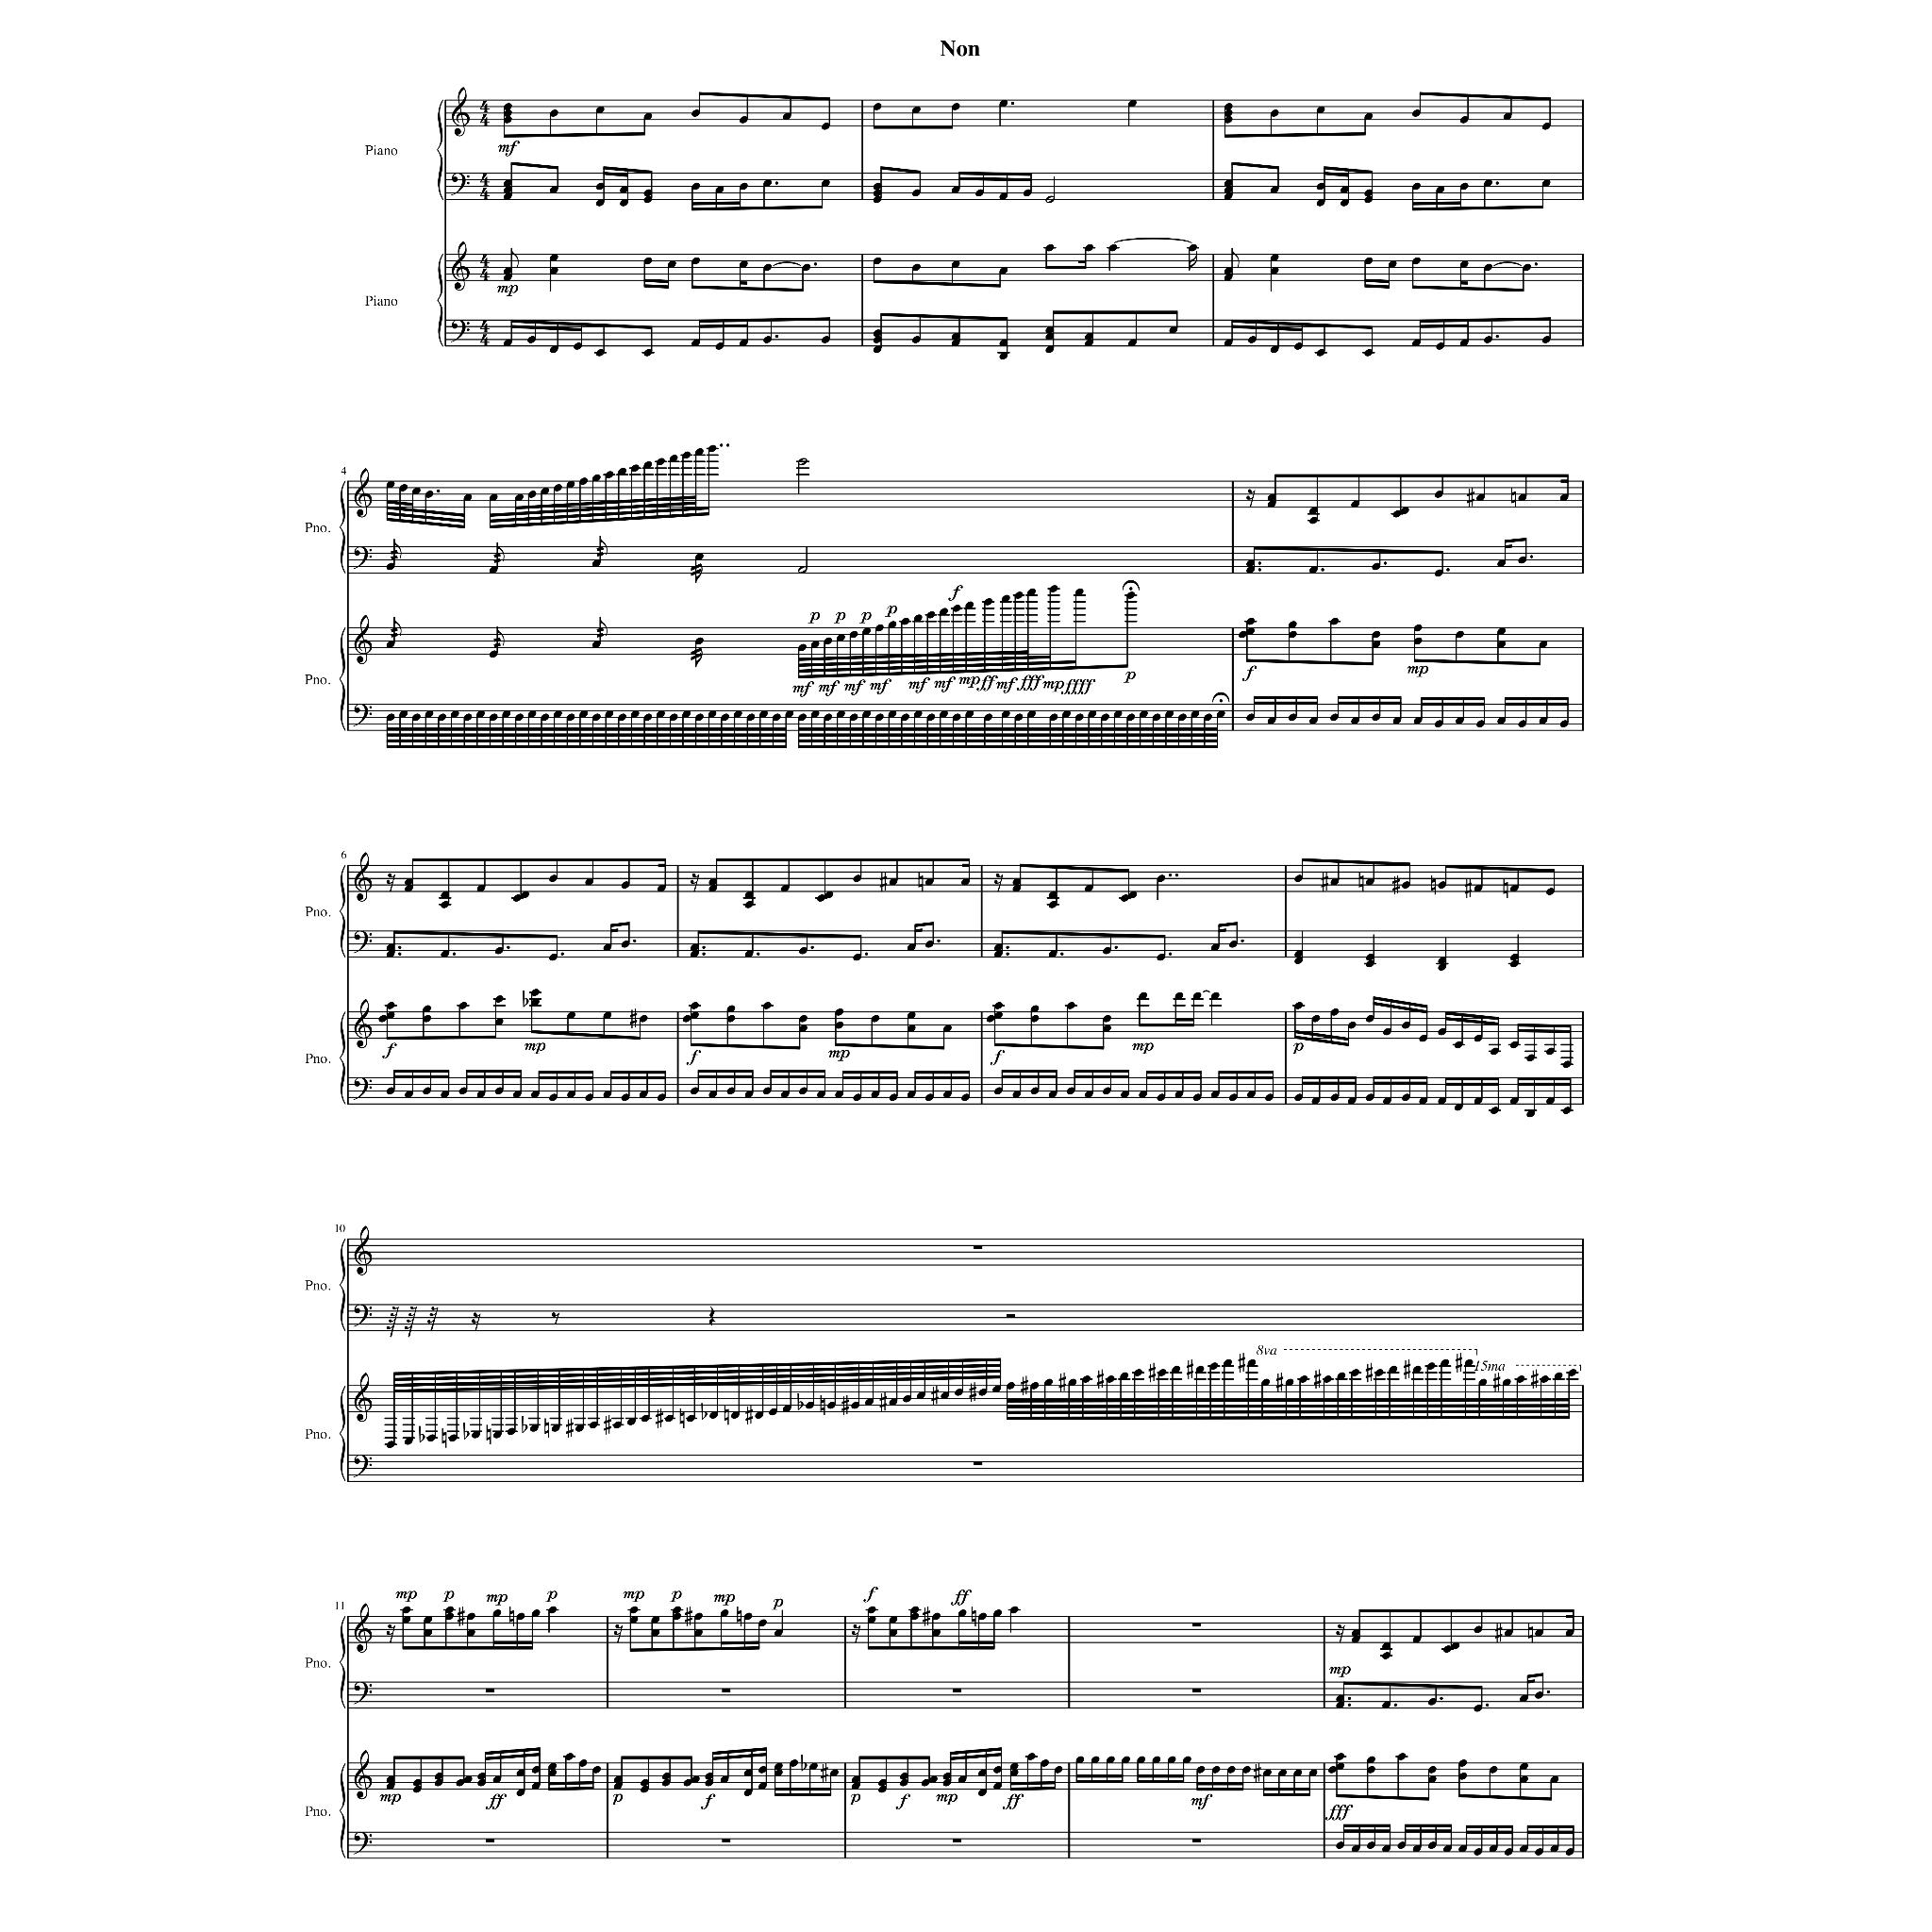brace: (338, 628, 345, 731), (338, 1385, 345, 1483), (338, 1762, 345, 1858), (338, 1010, 345, 1104), (338, 1238, 345, 1332), (338, 1615, 345, 1709), (338, 481, 345, 573), (338, 865, 345, 957), (437, 99, 442, 200), (437, 253, 442, 347)
fClef: (449, 320, 469, 343), (352, 704, 372, 727), (352, 547, 372, 570), (352, 1077, 372, 1100), (352, 931, 372, 954), (352, 1304, 372, 1327), (352, 1454, 372, 1477), (352, 1831, 372, 1854), (449, 173, 469, 195), (352, 1683, 372, 1704)
flag16thDown: (1189, 251, 1196, 271)
flag8thDown: (695, 563, 701, 582), (695, 648, 701, 667)
flag8thUp: (510, 248, 518, 267), (393, 540, 402, 559), (495, 628, 504, 646), (495, 543, 504, 561), (393, 617, 402, 635), (1231, 248, 1238, 267), (600, 536, 607, 556), (600, 617, 607, 635)
gClef: (354, 614, 372, 665), (354, 998, 372, 1049), (354, 1224, 372, 1276), (451, 241, 469, 290), (451, 87, 469, 136), (354, 467, 372, 517), (354, 853, 372, 902), (354, 1373, 372, 1422), (354, 1603, 372, 1652), (354, 1750, 372, 1799)
noteheadBlack: (1269, 253, 1277, 262), (1085, 338, 1093, 347), (1168, 326, 1177, 334), (1223, 179, 1231, 188), (1223, 338, 1231, 347), (1127, 338, 1136, 347), (1541, 122, 1550, 131), (1541, 179, 1550, 188), (1412, 182, 1421, 191), (1412, 338, 1421, 347), (1364, 195, 1373, 203), (1364, 349, 1373, 357), (1483, 179, 1491, 188), (642, 195, 651, 203), (642, 349, 651, 357), (594, 106, 603, 115), (594, 182, 603, 191), (594, 349, 603, 357), (738, 182, 747, 191), (738, 338, 747, 347), (502, 338, 511, 347), (502, 179, 511, 188), (548, 253, 557, 262), (911, 106, 920, 115), (998, 338, 1007, 347), (950, 338, 959, 347), (763, 179, 771, 188), (872, 195, 881, 203), (872, 182, 881, 191), (1125, 591, 1134, 600), (901, 617, 909, 626), (1246, 617, 1254, 626), (939, 607, 948, 616), (1000, 594, 1008, 603), (1014, 591, 1023, 600), (1537, 717, 1546, 725), (1454, 717, 1463, 725), (1497, 717, 1506, 725), (1350, 717, 1359, 725), (1267, 717, 1276, 725), (1307, 717, 1316, 725), (1307, 506, 1316, 515), (1433, 490, 1442, 499), (1412, 717, 1421, 725), (1371, 563, 1380, 571), (1392, 717, 1401, 725), (1399, 506, 1408, 515), (1392, 510, 1401, 518), (527, 490, 536, 499), (630, 464, 639, 472), (617, 467, 626, 476), (386, 563, 395, 571), (488, 649, 497, 658), (835, 633, 844, 642), (694, 448, 702, 456), (694, 552, 702, 561), (1192, 991, 1201, 1000), (1210, 1090, 1219, 1099), (1210, 991, 1219, 1000), (1155, 874, 1164, 883), (1293, 1001, 1302, 1010), (1293, 874, 1302, 883), (1030, 1086, 1039, 1095), (1012, 1090, 1021, 1099), (1047, 890, 1056, 899), (1047, 1090, 1056, 1099), (1127, 890, 1136, 899), (1120, 893, 1129, 902), (1120, 1090, 1129, 1099), (1138, 1090, 1146, 1099), (1138, 991, 1146, 1000), (1065, 1086, 1074, 1095), (1065, 1001, 1074, 1010), (1102, 1086, 1111, 1095), (1102, 947, 1111, 955), (1083, 1090, 1092, 1099), (1562, 1106, 1571, 1115), (1562, 1060, 1571, 1069), (1346, 1021, 1355, 1030), (1453, 1102, 1461, 1111), (1401, 1021, 1410, 1030), (1437, 962, 1445, 971), (566, 1090, 575, 1099), (511, 1090, 520, 1099), (520, 890, 529, 899), (511, 893, 520, 902), (548, 874, 557, 883), (531, 1090, 540, 1099), (639, 1090, 648, 1099), (690, 1086, 699, 1095), (690, 1001, 699, 1010), (602, 1090, 610, 1099), (386, 1086, 395, 1095), (386, 1001, 395, 1010), (403, 1090, 412, 1099), (476, 1090, 485, 1099), (458, 1086, 467, 1095), (458, 1001, 467, 1010), (494, 1086, 502, 1095), (494, 1017, 502, 1026), (494, 947, 502, 955), (441, 1090, 449, 1099), (441, 890, 449, 899), (870, 1090, 879, 1099), (816, 1090, 824, 1099), (824, 890, 833, 899), (816, 893, 824, 902), (853, 874, 862, 883), (943, 1090, 952, 1099), (994, 1086, 1003, 1095), (994, 1001, 1003, 1010), (906, 1090, 915, 1099), (725, 1086, 734, 1095), (708, 1090, 717, 1099), (743, 1090, 752, 1099), (743, 890, 752, 899), (798, 1086, 807, 1095), (798, 947, 807, 955), (1081, 1375, 1090, 1384), (1223, 1359, 1231, 1368), (915, 1391, 924, 1399), (939, 1391, 948, 1399), (1539, 1375, 1548, 1384), (1463, 1359, 1472, 1368), (1553, 1371, 1562, 1380), (1336, 1371, 1345, 1380), (1322, 1375, 1330, 1384), (1299, 1375, 1307, 1384), (1440, 1359, 1449, 1368), (448, 1433, 456, 1442), (426, 1433, 435, 1442), (640, 1414, 649, 1422), (626, 1417, 635, 1426), (686, 1414, 695, 1422), (1336, 1700, 1345, 1709), (1350, 1844, 1359, 1852), (1366, 1755, 1375, 1764), (1382, 1844, 1391, 1852), (1382, 1700, 1391, 1709), (1382, 1642, 1391, 1651), (1090, 1755, 1099, 1764), (1040, 1759, 1049, 1767), (1182, 1755, 1191, 1764), (1136, 1755, 1145, 1764), (1122, 1755, 1131, 1764), (1152, 1755, 1161, 1764), (1166, 1755, 1175, 1764), (1550, 1775, 1559, 1783), (1550, 1844, 1559, 1852), (1451, 1642, 1460, 1651), (1458, 1759, 1467, 1767), (1458, 1844, 1467, 1852), (1412, 1844, 1421, 1852), (1426, 1775, 1435, 1783), (1520, 1775, 1529, 1783), (1520, 1844, 1529, 1852), (1488, 1844, 1497, 1852), (612, 1775, 621, 1783), (672, 1612, 681, 1621), (690, 1775, 699, 1783), (628, 1615, 637, 1624), (386, 1775, 395, 1783), (402, 1615, 410, 1624), (465, 1612, 474, 1621), (492, 1775, 501, 1783), (515, 1612, 524, 1621), (423, 1615, 432, 1624), (444, 1612, 453, 1621), (867, 1615, 876, 1624), (888, 1615, 897, 1624), (909, 1612, 918, 1621), (957, 1775, 966, 1783), (927, 1775, 936, 1783), (743, 1612, 752, 1621), (789, 1759, 798, 1767), (1339, 200, 1348, 207), (1293, 343, 1302, 350), (1316, 106, 1323, 115), (1316, 182, 1323, 191), (1316, 349, 1323, 357), (1269, 110, 1277, 117), (1269, 186, 1277, 193), (1269, 267, 1277, 274), (1269, 345, 1277, 352), (1247, 336, 1256, 343), (1046, 326, 1053, 334), (1085, 244, 1093, 251), (1085, 333, 1093, 340), (1023, 189, 1031, 196), (1223, 117, 1231, 124), (1223, 110, 1231, 117), (1223, 103, 1231, 110), (1223, 193, 1231, 200), (1223, 186, 1231, 193), (1223, 274, 1231, 281), (1223, 267, 1231, 274), (1108, 244, 1116, 251), (1127, 101, 1136, 108), (1541, 336, 1550, 343), (1502, 113, 1511, 120), (1522, 264, 1530, 271), (1387, 260, 1396, 267), (1412, 110, 1421, 117), (1412, 258, 1421, 265), (1364, 113, 1373, 120), (1364, 189, 1373, 196), (1364, 258, 1373, 265), (1460, 338, 1467, 347), (1483, 264, 1491, 271), (1483, 336, 1491, 343), (1435, 186, 1444, 193), (1435, 343, 1444, 350), (1339, 186, 1348, 193), (1460, 182, 1467, 191), (642, 113, 651, 120), (642, 189, 651, 196), (642, 258, 651, 265), (594, 200, 603, 207), (619, 200, 628, 207), (619, 186, 628, 193), (715, 186, 724, 193), (715, 343, 724, 350), (738, 117, 747, 124), (738, 260, 747, 267), (692, 338, 699, 347), (667, 260, 676, 267), (692, 182, 699, 191), (502, 274, 511, 281), (502, 267, 511, 274), (502, 117, 511, 124), (502, 110, 511, 117), (502, 103, 511, 110), (502, 193, 511, 200), (502, 186, 511, 193), (548, 267, 557, 274), (548, 345, 557, 352), (548, 186, 557, 193), (573, 343, 582, 350), (527, 336, 536, 343), (548, 110, 557, 117), (911, 189, 920, 196), (911, 264, 920, 271), (911, 336, 920, 343), (872, 329, 881, 336), (975, 189, 984, 196), (998, 101, 1007, 108), (998, 193, 1007, 200), (998, 267, 1007, 274), (998, 352, 1007, 359), (950, 103, 959, 110), (950, 186, 959, 193), (950, 260, 959, 267), (950, 333, 959, 340), (782, 113, 791, 120), (801, 264, 810, 271), (872, 345, 881, 352), (763, 264, 771, 271), (763, 336, 771, 343), (821, 179, 828, 188), (872, 103, 881, 110), (872, 189, 881, 196), (872, 258, 881, 265), (872, 336, 881, 343), (821, 122, 828, 131), (1177, 713, 1185, 720), (1125, 713, 1134, 720), (1164, 711, 1173, 718), (1152, 713, 1161, 720), (1139, 711, 1148, 718), (1074, 713, 1083, 720), (1074, 589, 1083, 596), (1113, 711, 1122, 718), (1100, 713, 1109, 720), (1215, 711, 1224, 718), (1203, 713, 1212, 720), (1246, 559, 1254, 566), (1246, 713, 1254, 720), (1246, 628, 1254, 635), (1238, 630, 1247, 637), (1246, 566, 1254, 573), (952, 713, 961, 720), (952, 605, 961, 612), (939, 711, 948, 718), (964, 711, 973, 718), (964, 602, 973, 609), (913, 711, 922, 718), (913, 614, 922, 621), (901, 713, 909, 720), (925, 713, 934, 720), (925, 612, 934, 619), (1026, 711, 1035, 718), (1026, 589, 1035, 596), (1062, 711, 1070, 718), (984, 713, 993, 720), (984, 598, 993, 605), (1014, 713, 1023, 720), (1000, 711, 1008, 718), (1537, 640, 1546, 648), (1476, 720, 1484, 727), (1476, 494, 1484, 501), (1497, 640, 1506, 648), (1497, 628, 1506, 635), (1497, 559, 1506, 566), (1559, 720, 1568, 727), (1559, 494, 1568, 501), (1454, 630, 1463, 637), (1330, 617, 1338, 626), (1350, 501, 1359, 508), (1267, 494, 1276, 501), (1267, 501, 1276, 508), (1307, 566, 1316, 573), (1307, 517, 1316, 524), (1433, 570, 1442, 577), (1433, 720, 1442, 727), (1412, 625, 1421, 632), (1412, 637, 1421, 644), (1371, 713, 1380, 720), (1371, 630, 1380, 637), (1371, 640, 1380, 648), (540, 488, 548, 495), (540, 713, 548, 720), (554, 711, 563, 718), (554, 485, 563, 492), (501, 711, 510, 718), (527, 711, 536, 718), (515, 713, 524, 720), (515, 494, 524, 501), (630, 711, 639, 718), (617, 713, 626, 720), (579, 711, 587, 718), (579, 478, 587, 485), (591, 713, 600, 720), (591, 640, 600, 648), (591, 559, 600, 566), (591, 474, 600, 481), (386, 713, 395, 720), (386, 640, 395, 648), (386, 481, 395, 488), (398, 711, 407, 718), (398, 485, 407, 492), (449, 711, 458, 718), (488, 713, 497, 720), (488, 566, 497, 573), (488, 494, 497, 501), (476, 711, 485, 718), (425, 490, 432, 499), (410, 713, 419, 720), (410, 488, 419, 495), (437, 713, 446, 720), (810, 640, 819, 648), (823, 713, 832, 720), (823, 637, 832, 644), (810, 711, 819, 718), (771, 713, 780, 720), (759, 711, 768, 718), (745, 713, 754, 720), (798, 713, 807, 720), (798, 644, 807, 651), (784, 711, 793, 718), (874, 713, 883, 720), (874, 625, 883, 632), (862, 711, 870, 718), (886, 711, 895, 718), (886, 621, 895, 628), (835, 711, 844, 718), (862, 628, 870, 635), (694, 637, 702, 644), (694, 713, 702, 720), (656, 711, 665, 718), (656, 458, 665, 465), (681, 451, 690, 458), (681, 711, 690, 718), (669, 713, 678, 720), (669, 455, 678, 462), (642, 713, 651, 720), (642, 462, 651, 469), (720, 713, 729, 720), (732, 711, 741, 718), (1192, 1093, 1201, 1100), (1228, 1093, 1237, 1100), (1228, 941, 1237, 948), (1210, 943, 1219, 950), (1155, 1093, 1164, 1100), (1155, 954, 1164, 961), (1175, 1090, 1182, 1099), (1175, 991, 1182, 1000), (1311, 1097, 1320, 1104), (1311, 1016, 1320, 1023), (1265, 1093, 1274, 1100), (1247, 1090, 1254, 1099), (1293, 1093, 1302, 1100), (1293, 950, 1302, 957), (1293, 957, 1302, 964), (1030, 1005, 1039, 1012), (1030, 1016, 1039, 1023), (1012, 878, 1021, 885), (1012, 885, 1021, 892), (1047, 950, 1056, 957), (1047, 901, 1056, 908), (1102, 1016, 1111, 1023), (1102, 1024, 1111, 1031), (1083, 885, 1092, 892), (1525, 1109, 1534, 1116), (1525, 1054, 1534, 1062), (1490, 1106, 1497, 1115), (1509, 1097, 1518, 1104), (1509, 1040, 1518, 1047), (1509, 954, 1518, 961), (1509, 961, 1518, 968), (1509, 885, 1518, 892), (1366, 1093, 1375, 1100), (1366, 1016, 1375, 1023), (1366, 954, 1375, 961), (1366, 961, 1375, 968), (1366, 878, 1375, 885), (1382, 1097, 1391, 1104), (1382, 1028, 1391, 1035), (1346, 1097, 1355, 1104), (1401, 881, 1410, 888), (1453, 1040, 1461, 1047), (1474, 1033, 1481, 1042), (1419, 1033, 1426, 1042), (1401, 1093, 1410, 1100), (1437, 1097, 1445, 1104), (1437, 1028, 1445, 1035), (1437, 957, 1445, 964), (1437, 881, 1445, 888), (566, 1012, 575, 1019), (584, 1093, 593, 1100), (584, 878, 593, 885), (548, 1093, 557, 1100), (548, 954, 557, 961), (531, 989, 540, 996), (531, 998, 540, 1005), (656, 1093, 665, 1100), (656, 885, 665, 892), (639, 1016, 648, 1023), (690, 950, 699, 957), (690, 1012, 699, 1019), (681, 1016, 690, 1023), (690, 943, 699, 950), (602, 1012, 610, 1019), (602, 943, 610, 950), (386, 1012, 395, 1019), (386, 943, 395, 950), (386, 950, 395, 957), (403, 878, 412, 885), (403, 885, 412, 892), (476, 885, 485, 892), (494, 996, 502, 1003), (441, 901, 449, 908), (423, 1086, 430, 1095), (441, 950, 449, 957), (870, 1016, 879, 1023), (888, 1093, 897, 1100), (888, 878, 897, 885), (853, 1093, 862, 1100), (853, 954, 862, 961), (835, 1090, 842, 1099), (835, 1021, 842, 1030), (961, 1093, 970, 1100), (961, 878, 970, 885), (943, 1024, 952, 1031), (994, 1012, 1003, 1019), (985, 1016, 994, 1023), (994, 943, 1003, 950), (994, 950, 1003, 957), (906, 1012, 915, 1019), (906, 1024, 915, 1031), (906, 943, 915, 950), (925, 1093, 934, 1100), (925, 941, 934, 948), (925, 878, 934, 885), (725, 1005, 734, 1012), (725, 1016, 734, 1023), (708, 878, 717, 885), (743, 950, 752, 957), (708, 885, 717, 892), (743, 901, 752, 908), (798, 1016, 807, 1023), (763, 1001, 770, 1010), (763, 1086, 770, 1095), (798, 1024, 807, 1031), (780, 1090, 787, 1099), (1157, 1369, 1166, 1376), (1106, 1375, 1113, 1384), (1120, 1371, 1127, 1380), (1247, 1359, 1254, 1368), (1194, 1366, 1203, 1373), (1171, 1366, 1180, 1373), (1208, 1362, 1217, 1369), (954, 1389, 962, 1396), (1044, 1378, 1053, 1385), (1067, 1378, 1076, 1385), (1005, 1382, 1014, 1389), (1030, 1382, 1039, 1389), (1516, 1375, 1523, 1384), (1477, 1378, 1486, 1385), (1568, 1369, 1576, 1376), (1350, 1369, 1359, 1376), (1284, 1378, 1293, 1385), (1426, 1362, 1435, 1369), (1412, 1366, 1421, 1373), (506, 1428, 515, 1435), (471, 1431, 479, 1438), (575, 1424, 584, 1431), (902, 1396, 911, 1403), (587, 1421, 596, 1428), (529, 1424, 538, 1431), (550, 1424, 559, 1431), (403, 1438, 412, 1445), (386, 1440, 395, 1447), (754, 1412, 763, 1419), (731, 1412, 740, 1419), (709, 1412, 718, 1419), (805, 1401, 814, 1408), (782, 1405, 791, 1412), (768, 1408, 777, 1415), (826, 1401, 835, 1408), (665, 1414, 672, 1422), (888, 1398, 897, 1405), (612, 1421, 621, 1428), (1336, 1842, 1345, 1849), (1336, 1753, 1345, 1760), (1336, 1762, 1345, 1769), (1327, 1766, 1336, 1773), (1277, 1769, 1286, 1776), (1293, 1769, 1302, 1776), (1336, 1695, 1345, 1702), (1307, 1769, 1316, 1776), (1350, 1637, 1359, 1644), (1350, 1629, 1359, 1637), (1366, 1766, 1375, 1773), (1366, 1842, 1375, 1849), (1382, 1652, 1391, 1660), (1076, 1755, 1083, 1764), (1053, 1766, 1062, 1773), (1008, 1606, 1017, 1614), (1008, 1769, 1017, 1776), (1008, 1762, 1017, 1769), (1026, 1753, 1035, 1760), (1196, 1766, 1205, 1773), (1210, 1766, 1219, 1773), (1226, 1766, 1235, 1773), (1242, 1766, 1251, 1773), (1106, 1755, 1113, 1764), (1564, 1849, 1573, 1856), (1564, 1629, 1573, 1637), (1534, 1849, 1543, 1856), (1534, 1691, 1543, 1698), (1534, 1629, 1543, 1637), (1444, 1844, 1451, 1852), (1458, 1773, 1467, 1780), (1412, 1637, 1421, 1644), (1396, 1842, 1405, 1849), (1396, 1753, 1405, 1760), (1426, 1698, 1435, 1706), (1426, 1766, 1435, 1773), (1426, 1842, 1435, 1849), (1520, 1695, 1529, 1702), (1520, 1762, 1529, 1769), (1474, 1704, 1481, 1713), (1488, 1766, 1497, 1773), (579, 1759, 586, 1767), (564, 1753, 573, 1760), (612, 1782, 621, 1789), (531, 1766, 540, 1773), (531, 1782, 540, 1789), (531, 1610, 540, 1617), (651, 1615, 658, 1624), (672, 1606, 681, 1614), (683, 1778, 692, 1785), (628, 1606, 637, 1614), (639, 1785, 648, 1792), (639, 1778, 648, 1785), (386, 1782, 395, 1789), (412, 1778, 421, 1785), (412, 1785, 421, 1792), (402, 1606, 410, 1614), (492, 1610, 501, 1617), (465, 1629, 474, 1637), (515, 1789, 524, 1796), (515, 1769, 524, 1776), (433, 1773, 442, 1780), (433, 1778, 442, 1785), (423, 1629, 432, 1637), (444, 1606, 453, 1614), (455, 1778, 464, 1785), (464, 1775, 471, 1783), (888, 1629, 897, 1637), (867, 1606, 876, 1614), (878, 1785, 886, 1792), (878, 1778, 886, 1785), (899, 1778, 908, 1785), (899, 1773, 908, 1780), (851, 1775, 858, 1783), (909, 1606, 918, 1614), (694, 1612, 701, 1621), (978, 1612, 985, 1621), (993, 1610, 1001, 1617), (993, 1782, 1001, 1789), (993, 1766, 1001, 1773), (920, 1778, 929, 1785), (932, 1612, 939, 1621), (941, 1778, 950, 1785), (941, 1773, 950, 1780), (957, 1610, 966, 1617), (773, 1762, 782, 1769), (773, 1629, 782, 1637), (773, 1769, 782, 1776), (720, 1775, 727, 1783), (743, 1769, 752, 1776), (743, 1789, 752, 1796), (757, 1619, 766, 1626), (757, 1782, 766, 1789), (757, 1766, 766, 1773), (704, 1773, 713, 1780), (704, 1778, 713, 1785), (830, 1769, 839, 1776), (1316, 200, 1323, 207), (1046, 244, 1053, 251), (1046, 345, 1053, 352), (1046, 333, 1053, 340), (1189, 244, 1196, 251), (1460, 117, 1467, 124), (1460, 260, 1467, 267), (692, 110, 699, 117), (692, 258, 699, 265), (821, 336, 828, 343), (1088, 711, 1095, 718), (1191, 711, 1198, 718), (1049, 713, 1056, 720), (1049, 586, 1056, 593), (1518, 494, 1525, 501), (1518, 720, 1525, 727), (1518, 557, 1525, 564), (1330, 713, 1338, 720), (1288, 630, 1295, 637), (1288, 621, 1295, 628), (1288, 713, 1295, 720), (566, 713, 573, 720), (566, 481, 573, 488), (605, 711, 612, 718), (605, 471, 612, 478), (464, 713, 471, 720), (464, 494, 471, 501), (425, 711, 432, 718), (849, 713, 856, 720), (849, 630, 856, 637), (708, 444, 715, 451), (708, 711, 715, 718), (1546, 1097, 1553, 1104), (1546, 1047, 1553, 1054), (1546, 888, 1553, 895), (1490, 1047, 1497, 1054), (1330, 1093, 1338, 1100), (1330, 1008, 1338, 1016), (1330, 878, 1338, 885), (1474, 1097, 1481, 1104), (1474, 885, 1481, 892), (1419, 1097, 1426, 1104), (621, 1093, 628, 1100), (621, 941, 628, 948), (621, 881, 628, 888), (379, 1016, 386, 1023), (423, 1005, 430, 1012), (423, 1016, 430, 1023), (835, 1008, 842, 1016), (780, 885, 787, 892), (1134, 1369, 1141, 1376), (1261, 1378, 1269, 1385), (978, 1389, 985, 1396), (993, 1385, 1000, 1392), (1502, 1378, 1509, 1385), (1375, 1369, 1382, 1376), (1389, 1366, 1396, 1373), (494, 1431, 501, 1438), (851, 1401, 858, 1408), (865, 1398, 872, 1405), (1263, 1769, 1270, 1776), (1444, 1645, 1451, 1652), (1504, 1849, 1511, 1856), (1504, 1629, 1511, 1637), (1474, 1849, 1481, 1856), (1474, 1626, 1481, 1633), (593, 1766, 600, 1773), (548, 1606, 556, 1614), (548, 1769, 556, 1776), (548, 1762, 556, 1769), (662, 1773, 669, 1780), (662, 1778, 669, 1785), (651, 1629, 658, 1637), (694, 1629, 701, 1637), (478, 1773, 485, 1780), (478, 1778, 485, 1785), (851, 1782, 858, 1789), (978, 1789, 985, 1796), (978, 1769, 985, 1776), (932, 1629, 939, 1637), (809, 1762, 816, 1769), (720, 1610, 727, 1617)
noteheadHalf: (1044, 195, 1054, 203), (798, 566, 807, 573), (798, 458, 807, 465)
rest16th: (993, 872, 1003, 892), (1334, 1624, 1345, 1642), (1246, 488, 1254, 508), (690, 872, 699, 892), (386, 872, 395, 892), (471, 1313, 479, 1330), (614, 1624, 623, 1642), (386, 1624, 395, 1642), (851, 1624, 860, 1642)
rest8th: (550, 1313, 559, 1325)
restHalf: (1007, 1315, 1014, 1318)
restQuarter: (708, 1306, 715, 1325)
restWhole: (720, 1688, 731, 1693), (1191, 1688, 1201, 1693), (952, 1688, 961, 1693), (485, 1688, 494, 1693), (720, 1838, 731, 1842), (1191, 1838, 1201, 1842), (1191, 1622, 1201, 1626), (973, 1246, 982, 1249), (973, 1461, 982, 1465), (952, 1838, 961, 1842), (485, 1838, 494, 1842)
